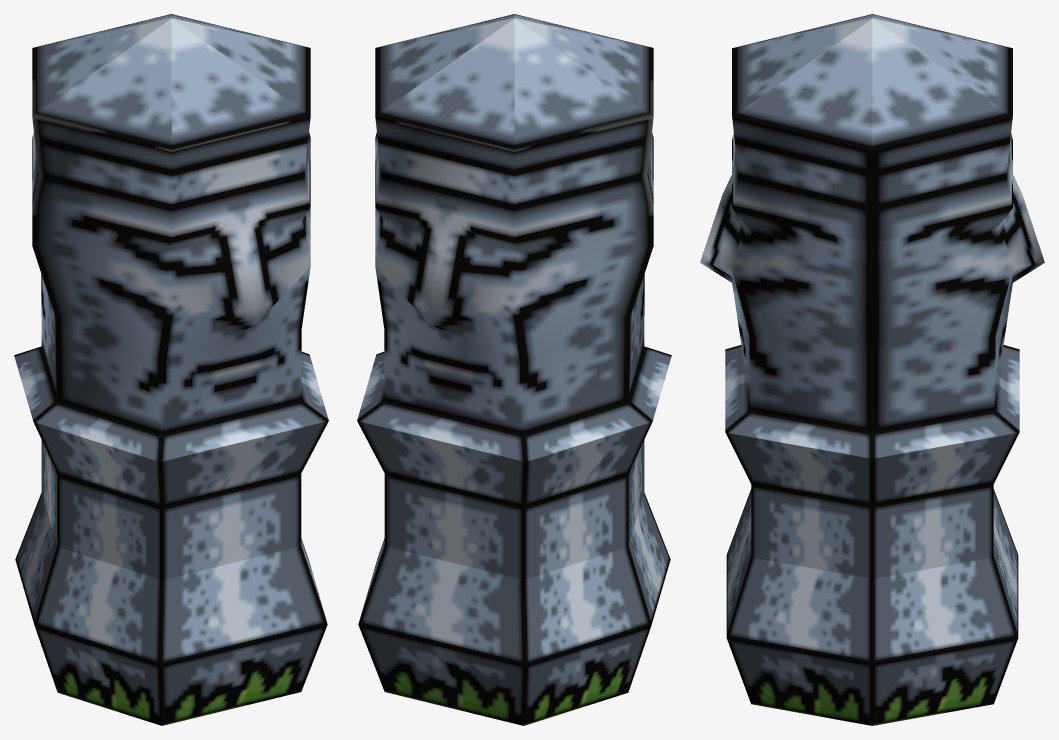
Rendered from deco_statueBig.FBX.
3 renders of one model, left to right at view 1: azimuth 30°, elevation 25°; view 2: azimuth 150°, elevation 25°; view 3: azimuth 270°, elevation 25°, orthographic.
Visible parts, largest first — view 1: deco_statueBig; view 2: deco_statueBig; view 3: deco_statueBig.
Part boxes in pixels (x1=…): deco_statueBig: x1=14, y1=14, x2=328, y2=725; deco_statueBig: x1=357, y1=14, x2=671, y2=725; deco_statueBig: x1=700, y1=14, x2=1044, y2=725.
Bounding box in the file's own units: 1.5 × 3.33 × 1.6.
1 material, 1 textured.
